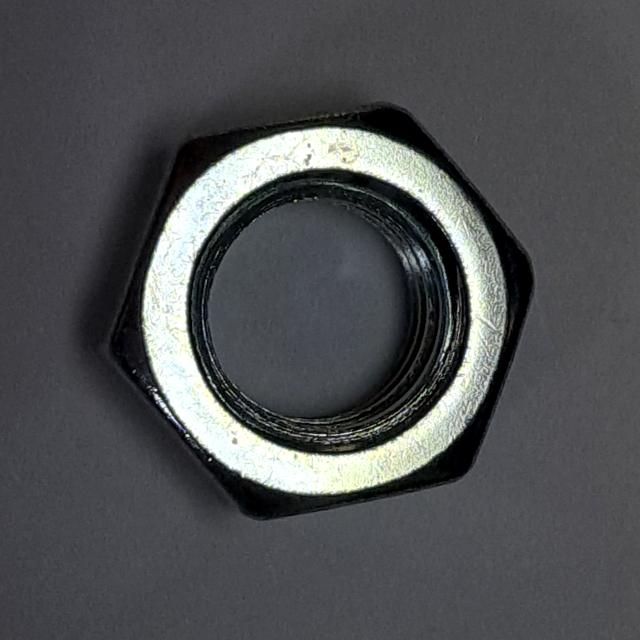Excellent: (80, 85, 544, 544)
